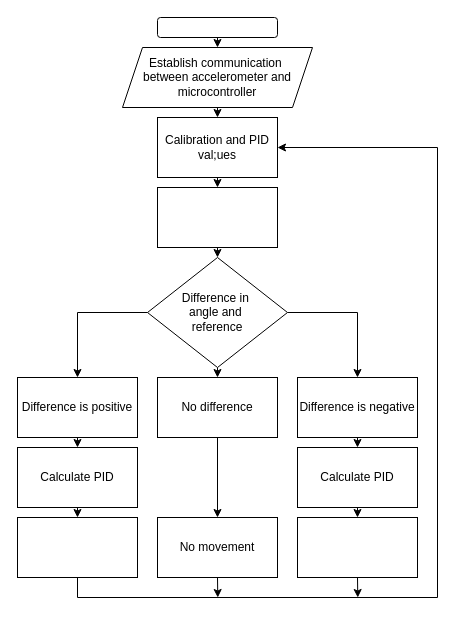
This 463x623 diagram has some shape labels left out. The shapes that lost their labels are listed below. From the top down, each one's centre as x and y in pixels, then its label:
At point (217, 27): "Start".
At point (217, 217): "Calculate pitch".
At point (77, 547): "Forward movement".
At point (357, 547): "Backwards movement".
